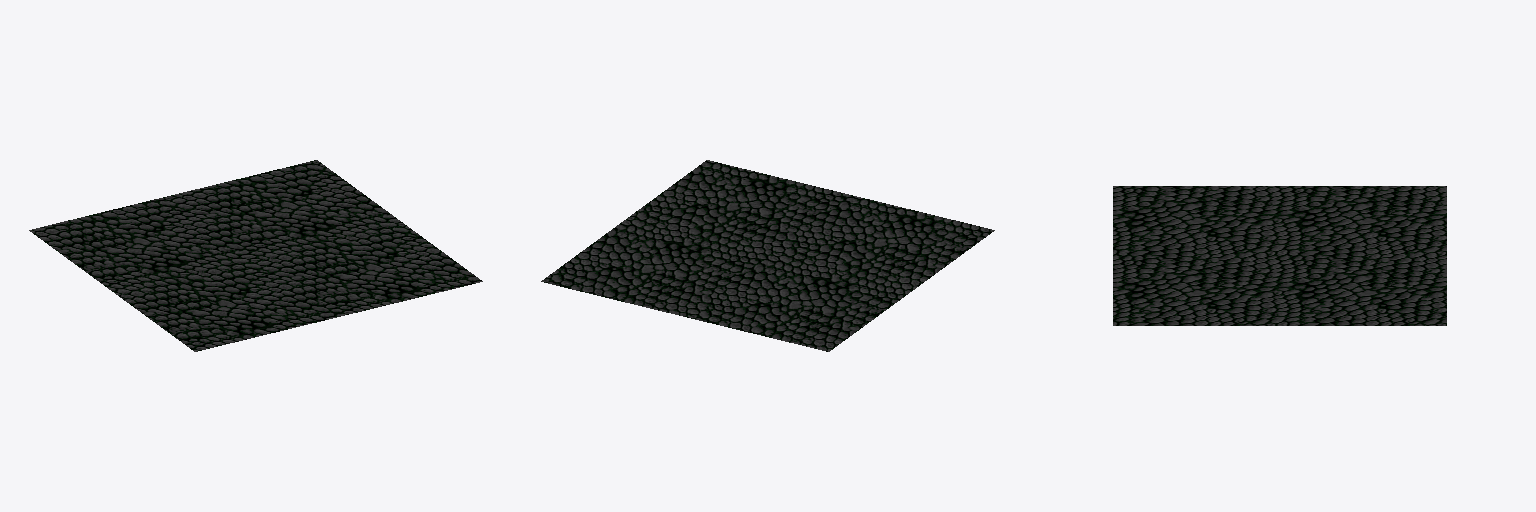
3 views of the same model, side by side, from view 1: azimuth 30°, elevation 25°; view 2: azimuth 150°, elevation 25°; view 3: azimuth 270°, elevation 25° (orthographic).
Visible parts, largest first — view 1: floor; view 2: floor; view 3: floor.
Boxes of the visible parts, x1=… form: floor: x1=29, y1=160, x2=482, y2=351; floor: x1=541, y1=160, x2=994, y2=351; floor: x1=1113, y1=186, x2=1446, y2=325.
Size of the model in its own units: 16 by 0 by 16.
1 materials, 1 textured.